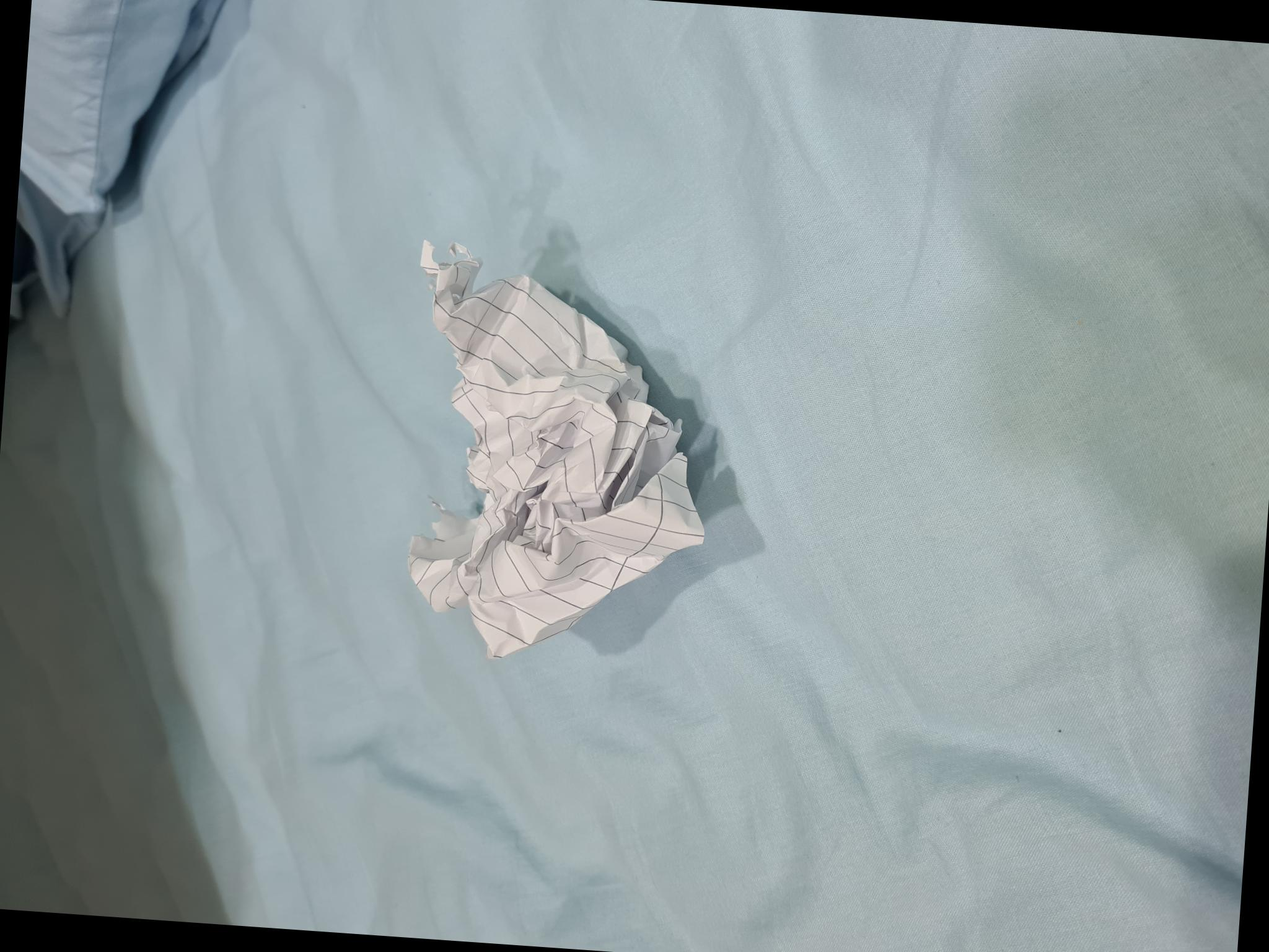Kertas: (297, 397, 698, 691)
